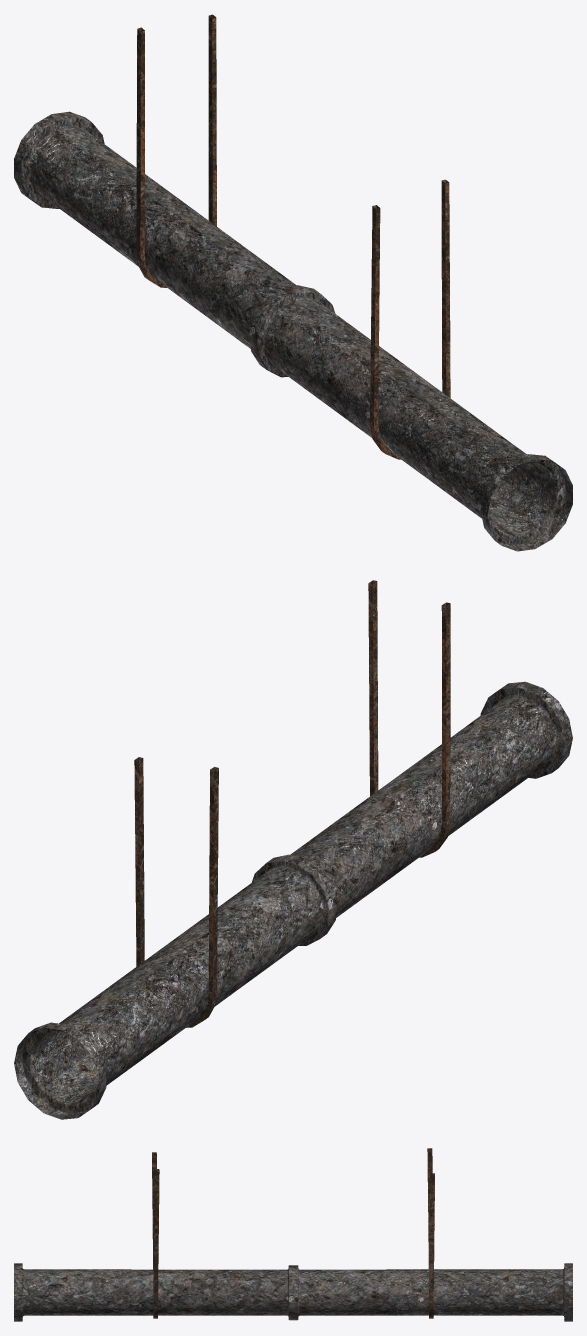
Rendered from Pipe_04.FBX.
The picture shows the model from 3 angles, top to bottom: view 1: azimuth 30°, elevation 25°; view 2: azimuth 150°, elevation 25°; view 3: azimuth 270°, elevation 25°; orthographic projection. The views are drawn at different scales.
Visible parts, largest first — view 1: Pipe_04; view 2: Pipe_04; view 3: Pipe_04.
Part boxes in pixels (x1,y1,x2,y2): Pipe_04: (14,14,572,551); Pipe_04: (14,580,572,1119); Pipe_04: (14,1148,572,1321).
Size of the model in its own units: 7.87 by 23.61 by 74.84.
